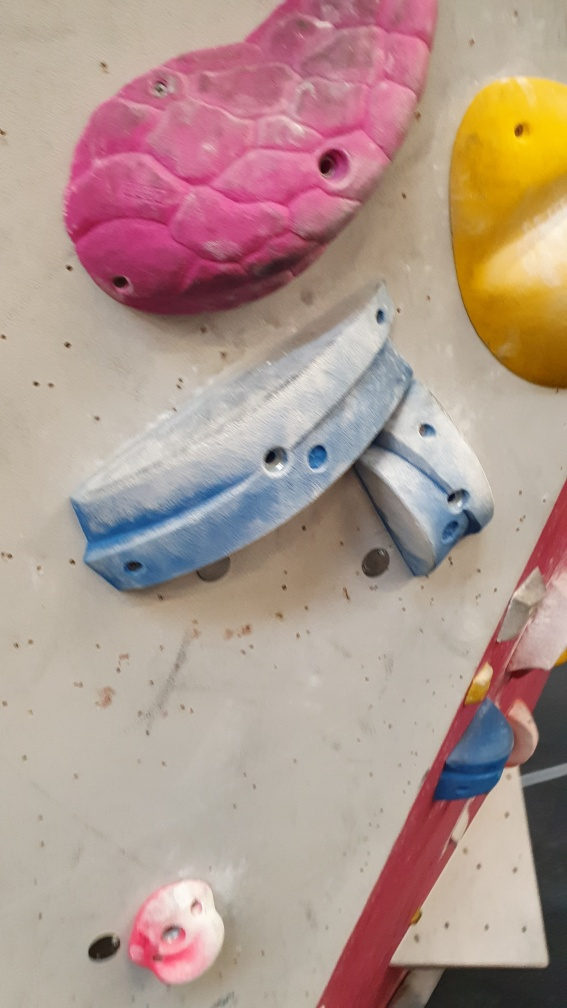Hand Start: (192, 554, 236, 584), (357, 545, 392, 581), (87, 931, 121, 965)
Pinch: (68, 282, 415, 595), (354, 373, 496, 581), (436, 696, 514, 804)
